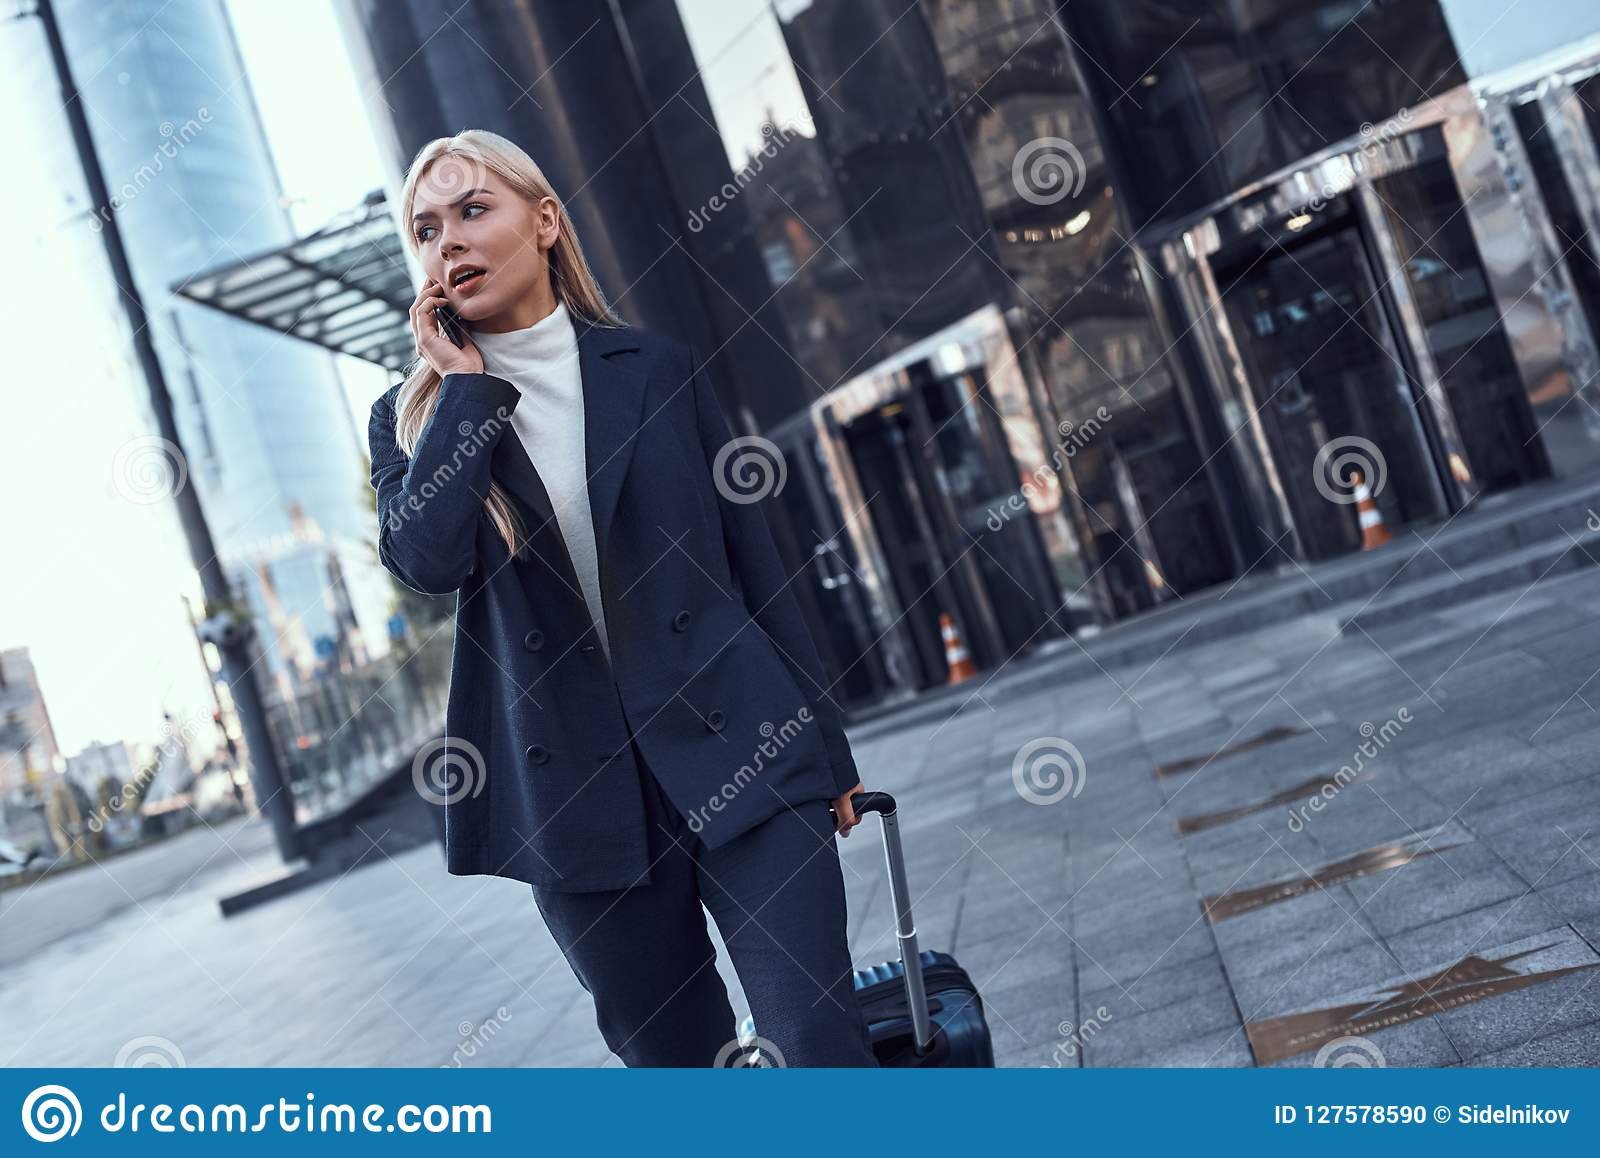phone: (430, 272, 468, 358)
talk: (410, 178, 525, 378)
